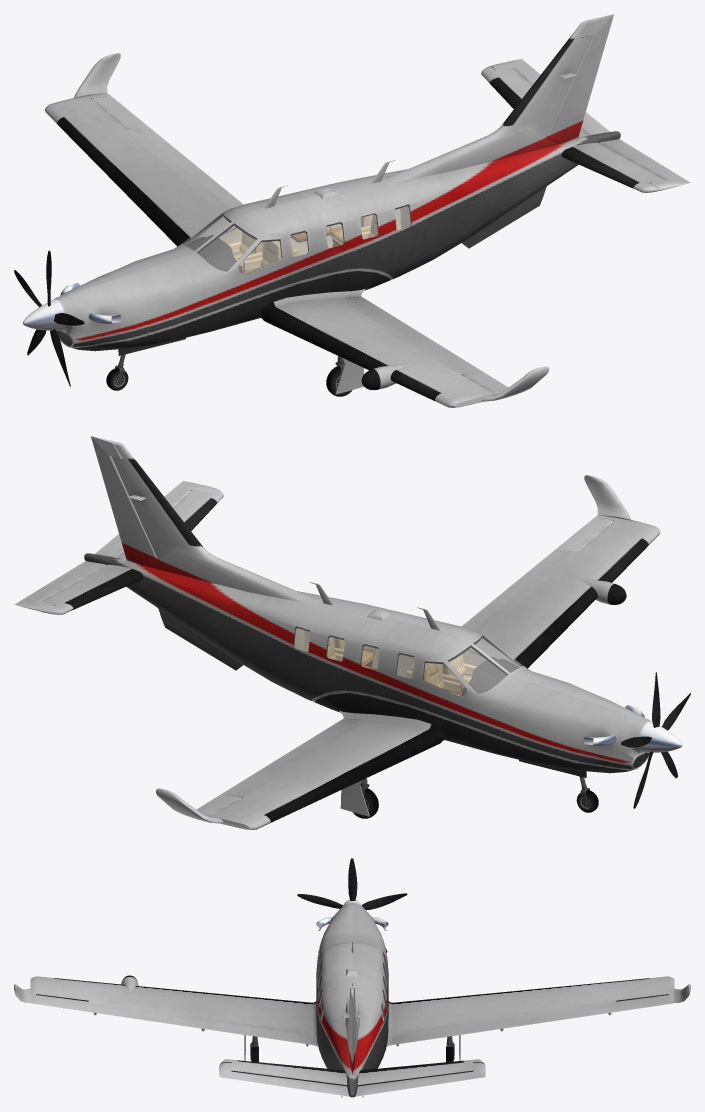
Rendered from daher_tbm_930.glb.
3 renders of one model, top to bottom at view 1: azimuth 30°, elevation 25°; view 2: azimuth 150°, elevation 25°; view 3: azimuth 270°, elevation 25°, orthographic. The views are drawn at different scales.
Parts seen in each view (by area): view 1: fuselage, ailes, ailes2, vitres, direction, intvitres, voletG, helice, porteH, voletD, porteB, profondeurG (+12 smaller); view 2: fuselage, ailes, vitres, intvitres, ailes2, direction, voletD, helice, voletG, profondeurD, ajouts, panel (+8 smaller); view 3: ailes, fuselage, ailes2, voletG, voletD, profondeurG, profondeurD, helice, trous, aileronG, aileronD, direction.
Part boxes in pixels (bbox=[...]): fuselage: bbox=[54, 20, 620, 351]; ailes: bbox=[45, 53, 549, 407]; ailes2: bbox=[481, 66, 665, 192]; vitres: bbox=[182, 204, 411, 271]; direction: bbox=[547, 14, 614, 143]; intvitres: bbox=[184, 206, 409, 270]; voletG: bbox=[344, 296, 482, 372]; helice: bbox=[14, 250, 84, 386]; porteH: bbox=[349, 199, 389, 251]; voletD: bbox=[138, 128, 243, 208]; porteB: bbox=[354, 242, 390, 285]; profondeurG: bbox=[599, 139, 690, 190]; fuselage: bbox=[84, 442, 651, 773]; ailes: bbox=[156, 475, 660, 829]; vitres: bbox=[293, 626, 522, 696]; intvitres: bbox=[295, 628, 520, 695]; ailes2: bbox=[39, 488, 223, 614]; direction: bbox=[91, 436, 157, 565]; voletD: bbox=[222, 718, 360, 794]; helice: bbox=[621, 672, 690, 808]; voletG: bbox=[461, 550, 566, 630]; profondeurD: bbox=[14, 561, 105, 612]; ajouts: bbox=[158, 608, 242, 670]; panel: bbox=[466, 657, 519, 693]; ailes: bbox=[14, 976, 690, 1046]; fuselage: bbox=[316, 902, 388, 1097]; ailes2: bbox=[220, 1059, 484, 1084]; voletG: bbox=[91, 1006, 312, 1046]; voletD: bbox=[392, 1006, 613, 1046]; profondeurG: bbox=[219, 1062, 349, 1096]; profondeurD: bbox=[355, 1062, 485, 1096]; helice: bbox=[297, 858, 407, 952]; trous: bbox=[36, 988, 668, 1086]; aileronG: bbox=[36, 995, 88, 1011]; aileronD: bbox=[616, 995, 668, 1011]; direction: bbox=[350, 988, 354, 1074].
Size of the model in its own units: 10.68 by 4.35 by 13.32.
Materials: 20 (18 with a texture image).
